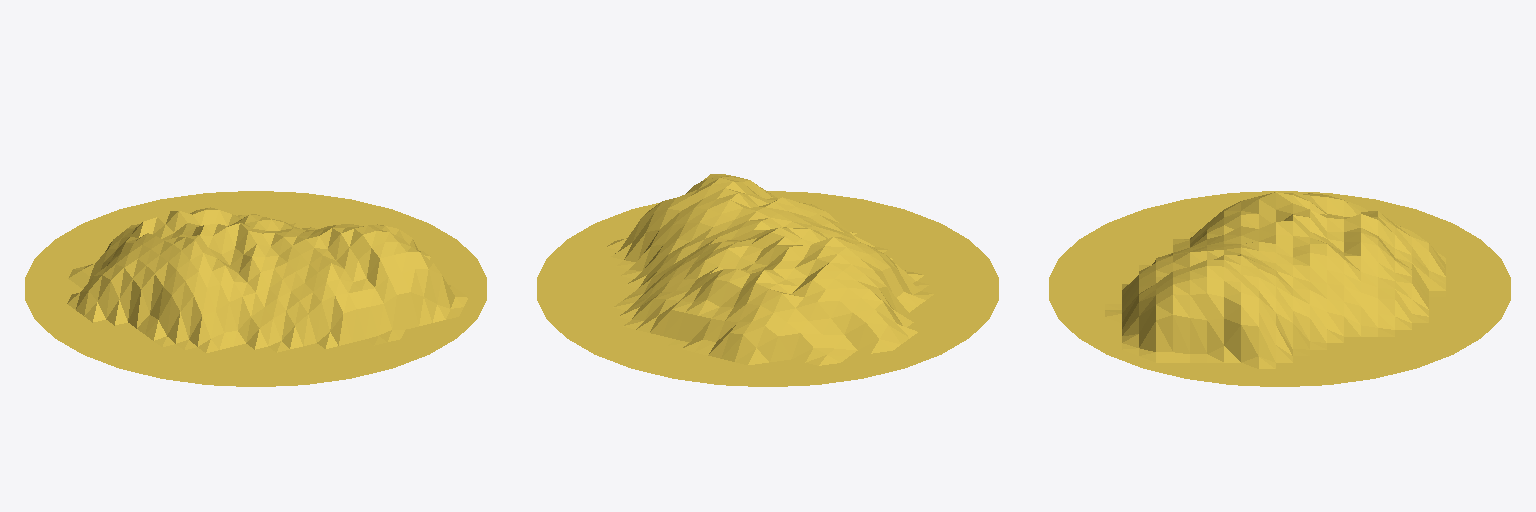
Rendered from island.obj.
3 views of the same model, side by side, from view 1: azimuth 30°, elevation 25°; view 2: azimuth 150°, elevation 25°; view 3: azimuth 270°, elevation 25° (orthographic).
Visible parts, largest first — view 1: land; view 2: land; view 3: land.
Boxes of the visible parts, box(x1,y1,x2,y2) form: land: box(25, 191, 486, 386); land: box(537, 174, 998, 386); land: box(1049, 191, 1510, 386).
Bounding box in the file's own units: 105 × 16.4 × 104.